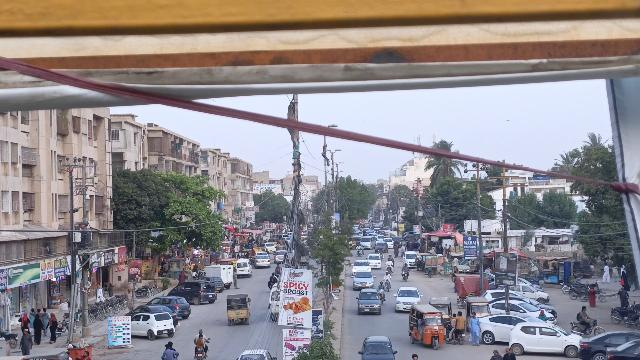Bike: (569, 320, 605, 334), (444, 324, 466, 346), (194, 346, 210, 360), (378, 291, 387, 303), (385, 279, 392, 293)
Car: (509, 320, 582, 357), (576, 330, 633, 360), (478, 314, 528, 344), (131, 309, 175, 339), (166, 280, 218, 305), (150, 294, 193, 322), (356, 334, 399, 360), (354, 287, 384, 317), (392, 285, 422, 314), (349, 270, 377, 288)
Person: (468, 311, 484, 347), (19, 328, 33, 357), (576, 303, 592, 328), (49, 312, 57, 343), (455, 311, 466, 331), (161, 342, 172, 360), (448, 312, 457, 334), (195, 333, 207, 346), (195, 324, 206, 338), (383, 270, 392, 281), (376, 281, 385, 292)
Rickshaw: (407, 303, 446, 351), (224, 293, 254, 327), (465, 299, 490, 325), (432, 296, 452, 321)
Truck: (206, 264, 234, 286)
